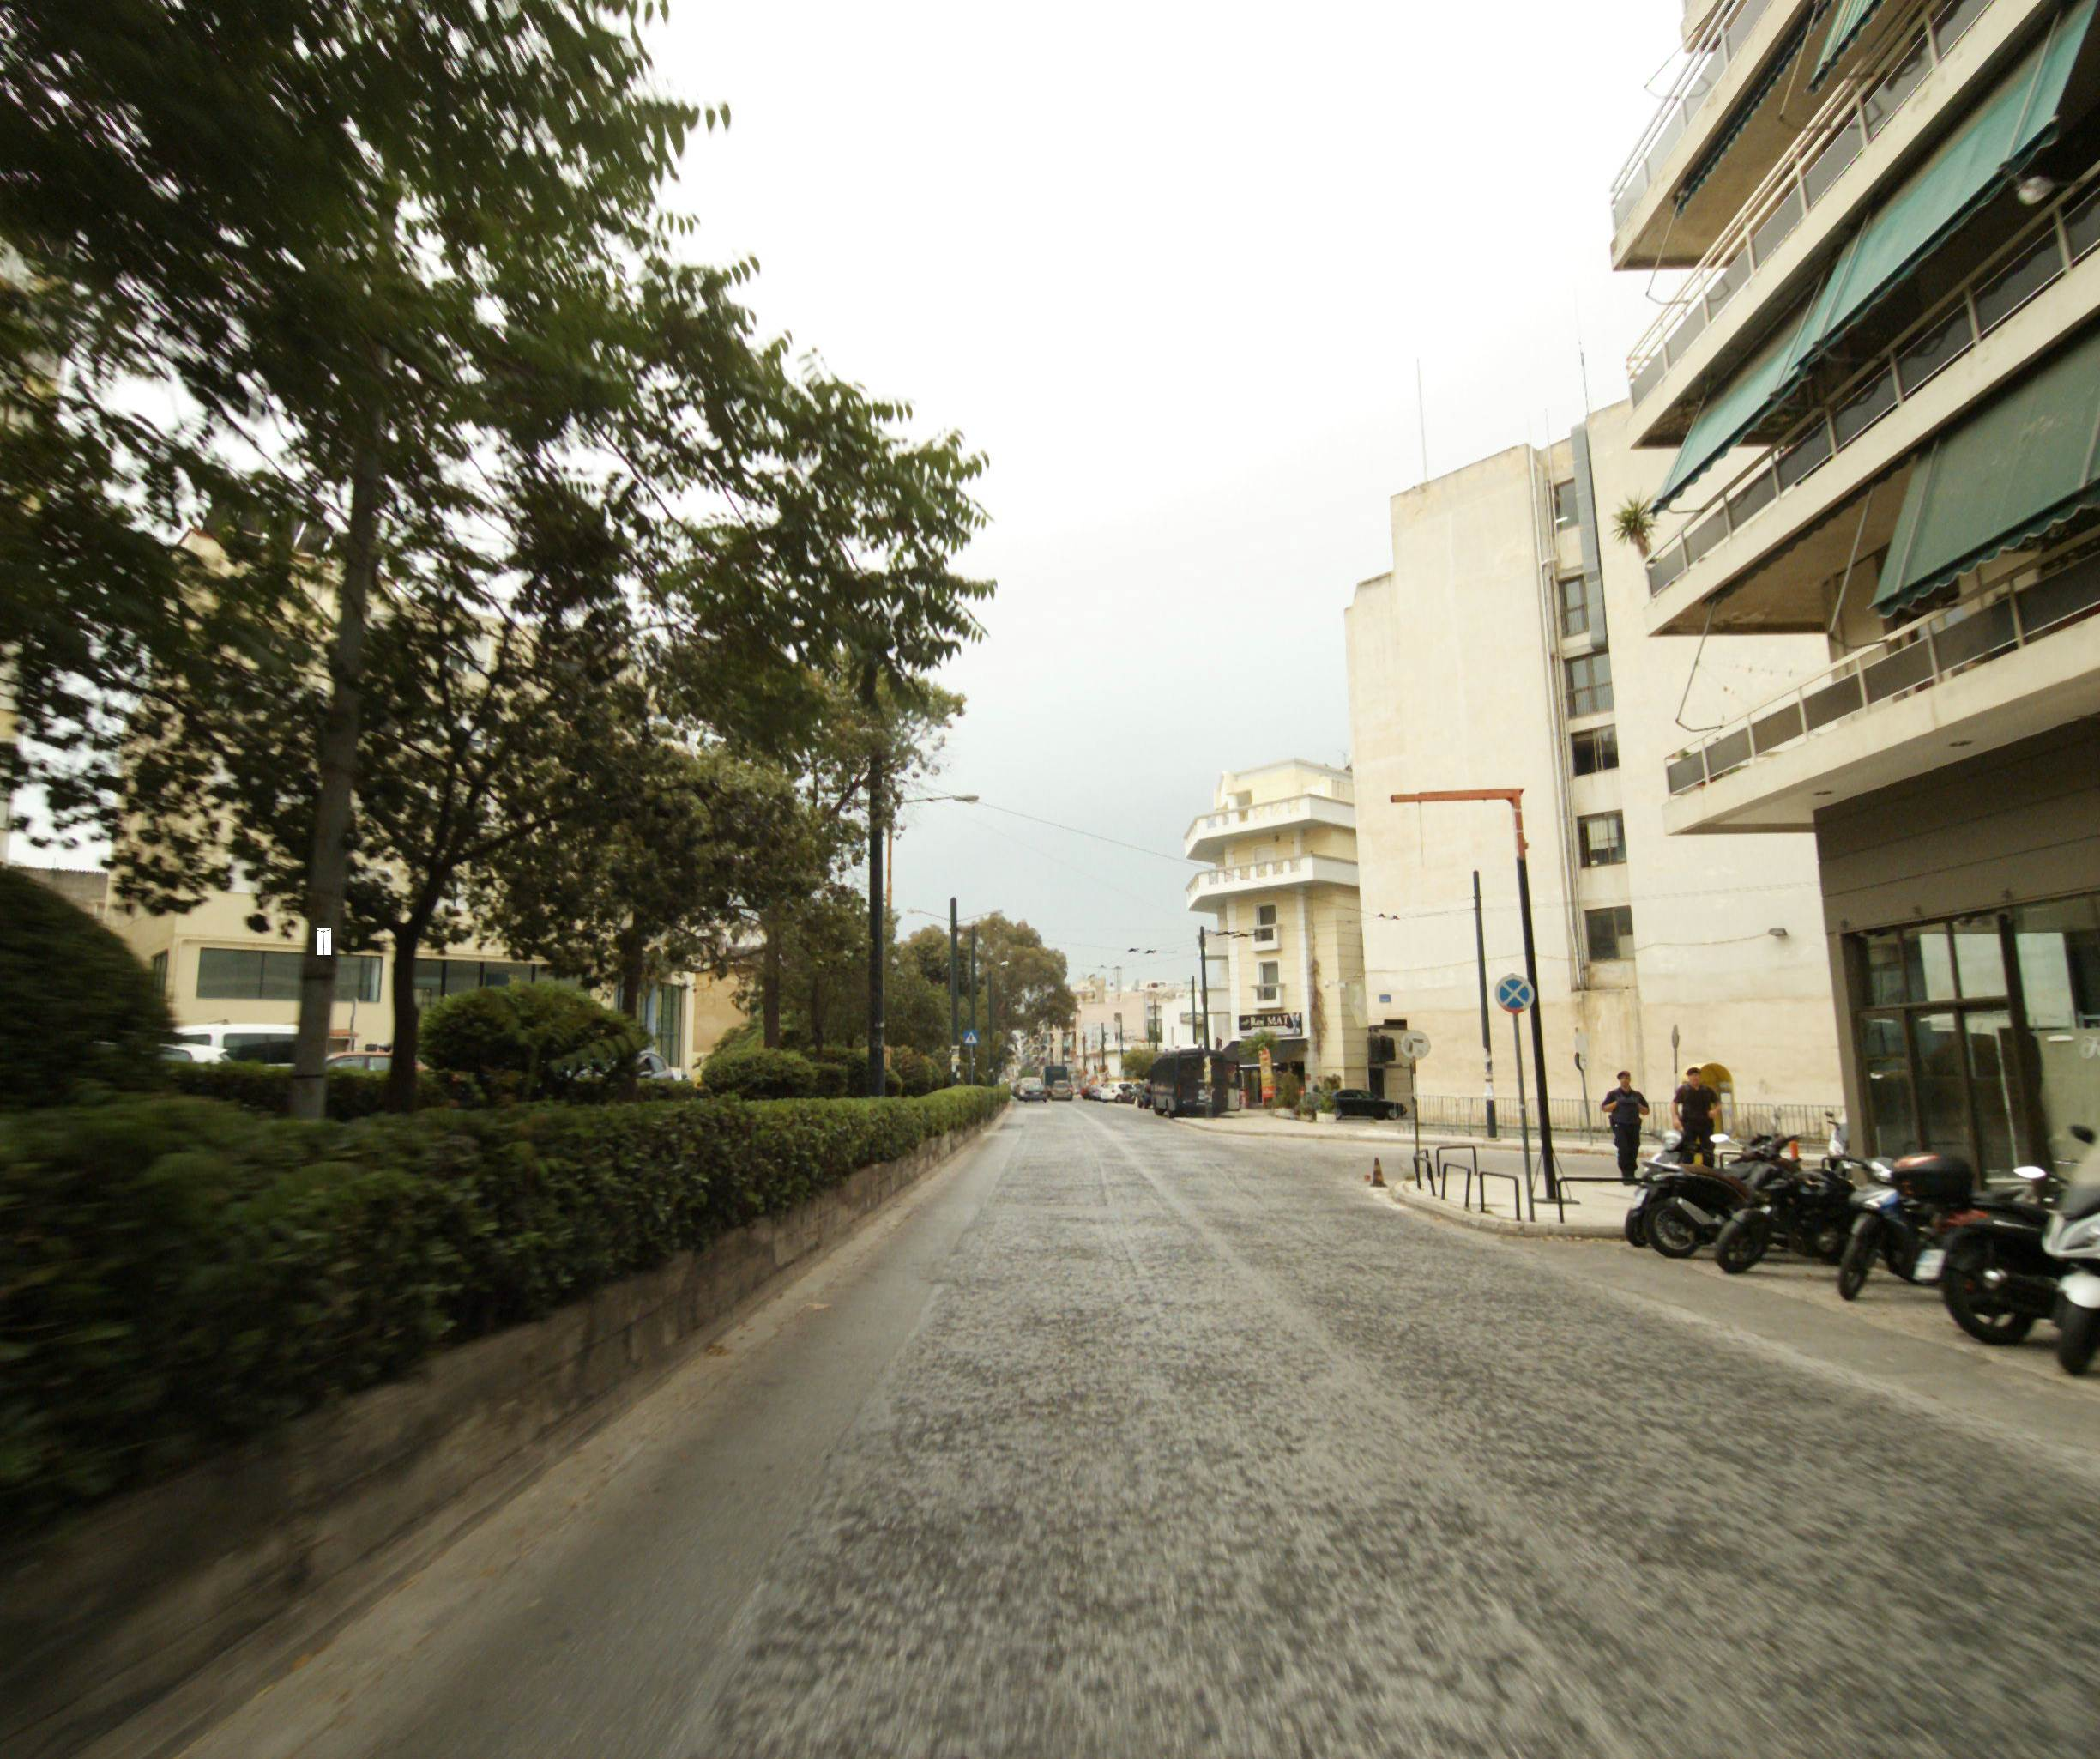tree: (499, 695, 830, 1169)
